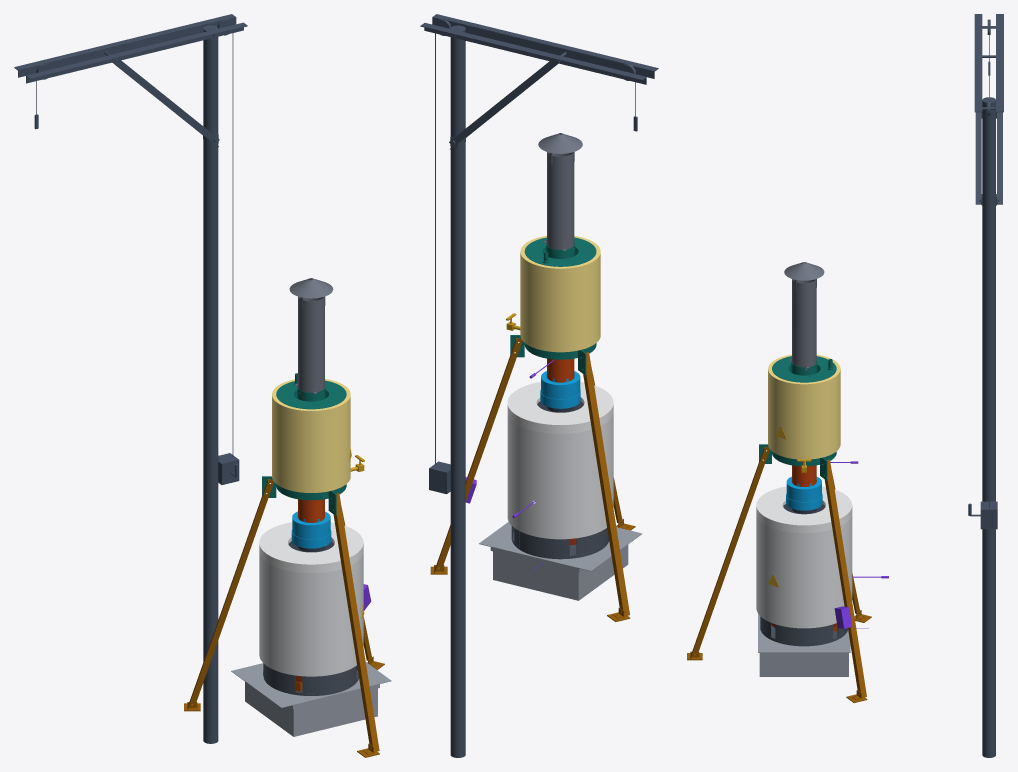
3 renders of one model, left to right at view 1: azimuth 30°, elevation 25°; view 2: azimuth 150°, elevation 25°; view 3: azimuth 270°, elevation 25°, orthographic. The views are drawn at different scales.
Visible parts, largest first — view 1: Lifting aid for the heat-recovery unit, Insulation blanket, Jacket shell blanket, Plinth: blocks, fibre board and ash pan, Jacket support tripod, Flue pipe with rain cap, Lid and top band blanket, Water jacket, about 60 L, open-vented, Outer drum, 200 L (firebox shell), Secondary air shroud and damper; view 2: Lifting aid for the heat-recovery unit, Insulation blanket, Jacket shell blanket, Plinth: blocks, fibre board and ash pan, Jacket support tripod, Flue pipe with rain cap, Lid and top band blanket, Water jacket, about 60 L, open-vented, Outer drum, 200 L (firebox shell), Secondary air shroud and damper, Burner throat (afterburner); view 3: Lifting aid for the heat-recovery unit, Insulation blanket, Jacket shell blanket, Jacket support tripod, Plinth: blocks, fibre board and ash pan, Flue pipe with rain cap, Lid and top band blanket, Water jacket, about 60 L, open-vented, Outer drum, 200 L (firebox shell), Secondary air shroud and damper.
Boxes of the visible parts, <box> form: Lifting aid for the heat-recovery unit: <box>14,14,247,743</box>; Insulation blanket: <box>259,552,363,676</box>; Jacket shell blanket: <box>272,379,350,492</box>; Plinth: blocks, fibre board and ash pan: <box>231,662,391,736</box>; Jacket support tripod: <box>184,479,384,757</box>; Flue pipe with rain cap: <box>289,278,333,393</box>; Lid and top band blanket: <box>259,522,363,573</box>; Water jacket, about 60 L, open-vented: <box>262,373,346,515</box>; Outer drum, 200 L (firebox shell): <box>263,663,358,695</box>; Secondary air shroud and damper: <box>291,511,331,548</box>; Lifting aid for the heat-recovery unit: <box>420,14,658,757</box>; Insulation blanket: <box>507,414,613,539</box>; Jacket shell blanket: <box>520,235,600,352</box>; Plinth: blocks, fibre board and ash pan: <box>479,522,642,600</box>; Jacket support tripod: <box>430,338,635,621</box>; Flue pipe with rain cap: <box>538,133,582,250</box>; Lid and top band blanket: <box>507,382,613,433</box>; Water jacket, about 60 L, open-vented: <box>510,237,596,375</box>; Outer drum, 200 L (firebox shell): <box>511,526,608,559</box>; Secondary air shroud and damper: <box>540,371,580,408</box>; Burner throat (afterburner): <box>547,358,574,382</box>; Lifting aid for the heat-recovery unit: <box>968,14,1003,757</box>; Insulation blanket: <box>756,514,852,628</box>; Jacket shell blanket: <box>768,354,840,459</box>; Jacket support tripod: <box>687,446,871,702</box>; Plinth: blocks, fibre board and ash pan: <box>758,614,850,676</box>; Flue pipe with rain cap: <box>784,262,824,370</box>; Lid and top band blanket: <box>756,486,852,533</box>; Water jacket, about 60 L, open-vented: <box>759,356,836,480</box>; Outer drum, 200 L (firebox shell): <box>760,616,847,646</box>; Secondary air shroud and damper: <box>786,476,822,510</box>.
Size of the model in its own units: 1.99 by 4.73 by 2.05.
